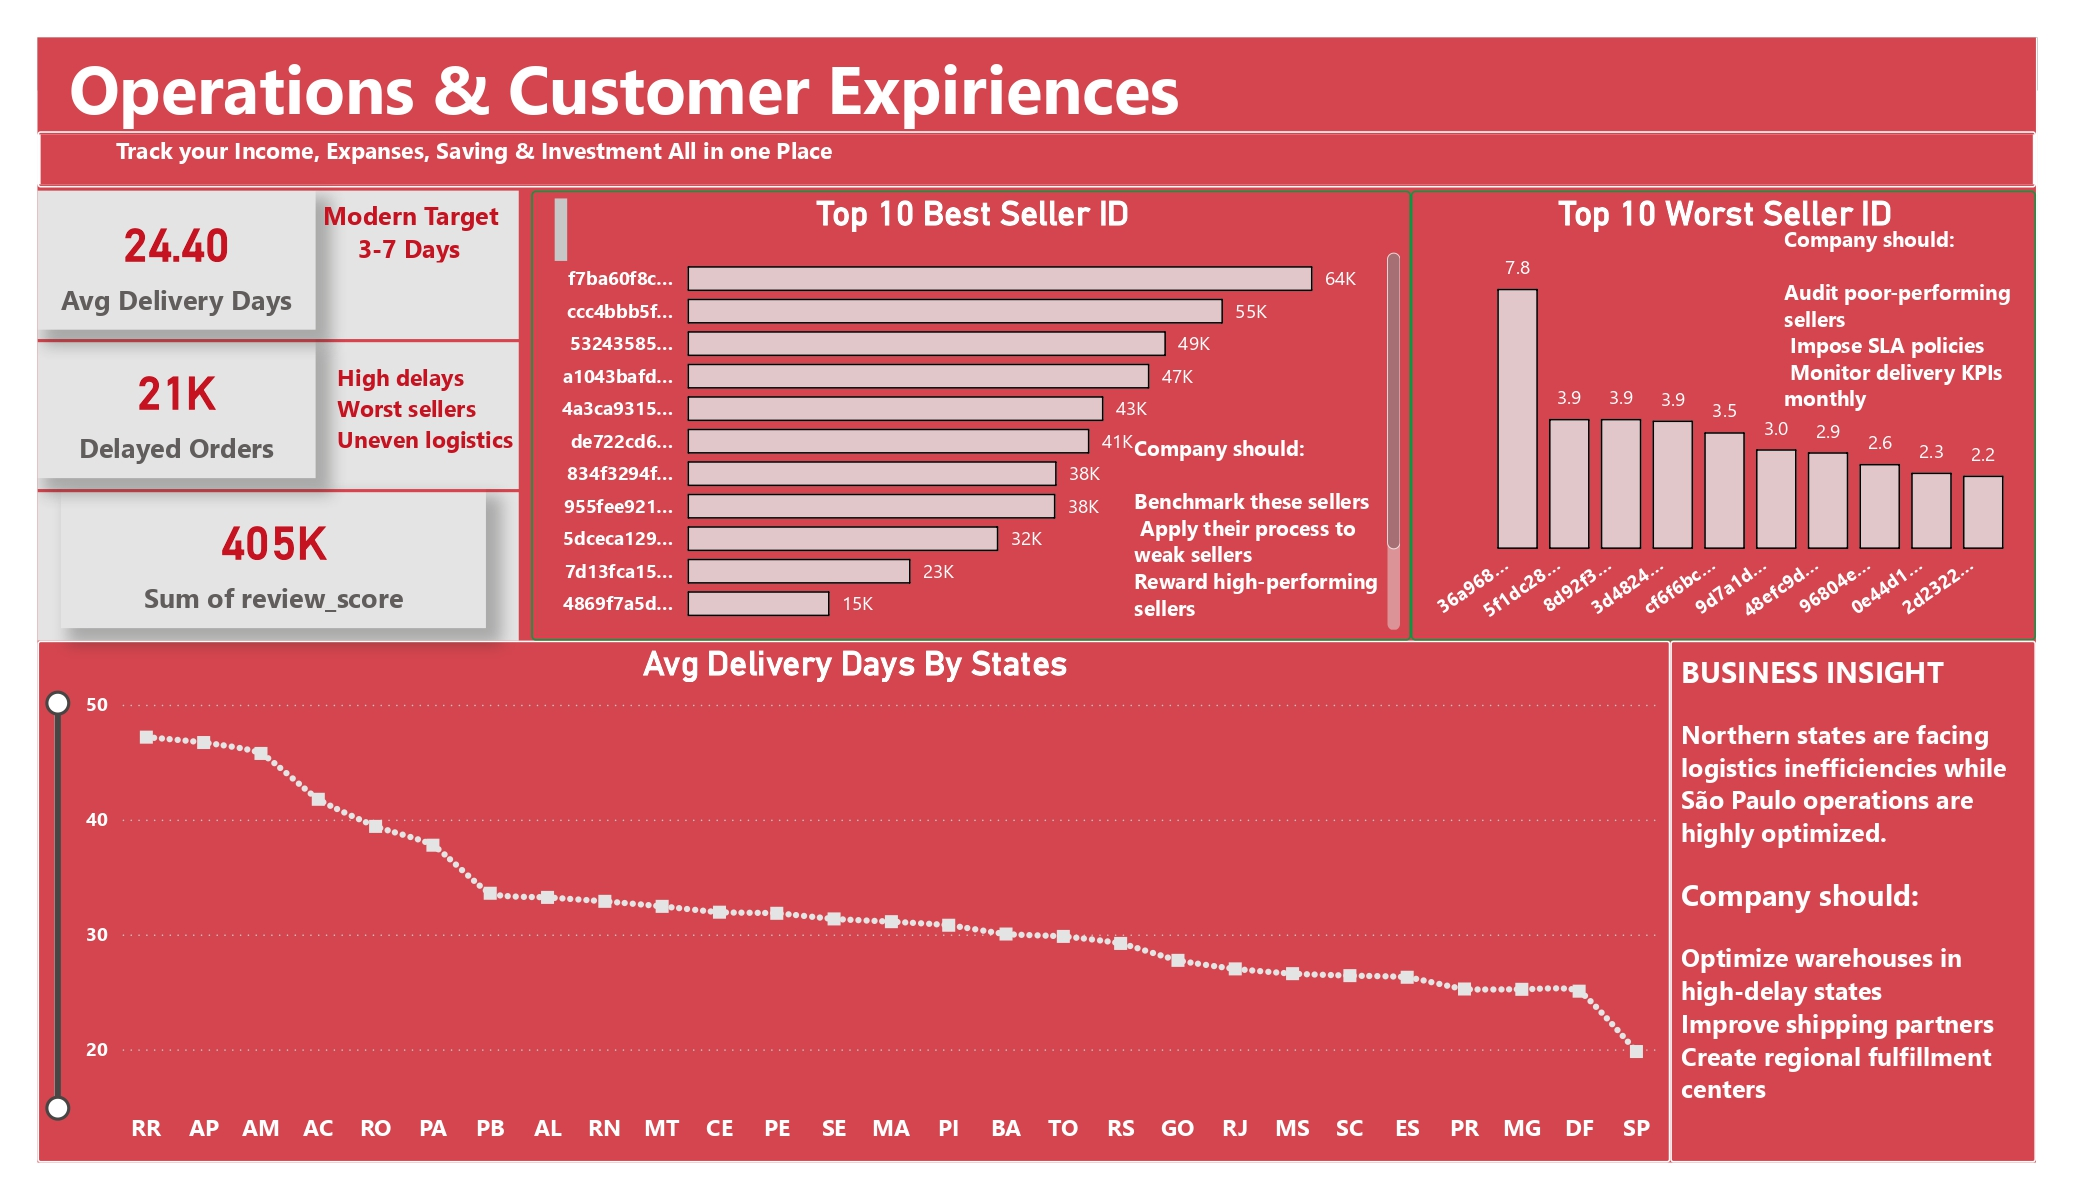

This screenshot's page, from the dashboard's own definition file:
{"tool":"powerbi","page":{"name":"Operation & Customer Satisfaction","canvas":[1280,720],"ordinal":2},"visuals":[{"type":"shape","box":[0,94.5,1279.4,625.5],"z":0},{"type":"shape","box":[0,0,1279.4,62.4],"z":1000},{"type":"shape","box":[0,60.5,1279.4,35.9],"z":2000},{"type":"shape","box":[0,98.3,308,94.5],"z":3000},{"type":"shape","box":[0,194.6,308,94.5],"z":4000},{"type":"shape","box":[0,291,308,94.5],"z":5000},{"type":"card","fields":{"Values":["DateTable.Avg Delivery Days"]},"box":[0,98.3,177.6,88.8],"z":6000},{"type":"card","fields":{"Values":["DateTable.Delayed Orders"]},"box":[0,192.8,177.6,88.8],"z":7000},{"type":"card","fields":{"Values":["Sum(olist_order_reviews_dataset.review_score)"]},"box":[15.1,289.1,272.1,88.8],"z":8000},{"type":"textbox","box":[281.6,113.4,71.8,83.2],"z":9000},{"type":"textbox","box":[272.1,209.8,71.8,83.2],"z":10000},{"type":"textbox","box":[281.6,311.8,71.8,83.2],"z":11000},{"type":"textbox","box":[272.1,402.5,71.8,83.2],"z":12000},{"type":"textbox","box":[272.1,606.6,71.8,83.2],"z":13000},{"type":"textbox","box":[272.1,495.1,81.3,83.2],"z":14000},{"type":"lineChart","title":"Avg Delivery Days By States","fields":{"Category":["customer_details.customer_state"],"Y":["DateTable.Avg Delivery Days"]},"box":[0,385.5,1045,334.5],"z":15000},{"type":"clusteredBarChart","title":"Top 10 Best Seller ID","fields":{"Category":["olist_order_items_dataset.seller_id"],"Y":["Measure Table.Total Revenue"]},"box":[315.6,98.3,563.2,287.2],"z":16000},{"type":"textbox","box":[1217,94.5,62.4,60.5],"z":17000},{"type":"textbox","box":[878.7,512.1,62.4,60.5],"z":18000},{"type":"textbox","box":[867.4,298.6,88.8,60.5],"z":19000},{"type":"textbox","box":[1217,292.9,62.4,60.5],"z":20000},{"type":"textbox","box":[1262.4,302.4,17,60.5],"z":21000},{"type":"textbox","box":[1217,506.5,62.4,60.5],"z":22000},{"type":"textbox","box":[540.5,546.1,223,102],"z":23000},{"type":"columnChart","title":"Top 10 Worst Seller ID","fields":{"Category":["olist_order_items_dataset.seller_id"],"Y":["Measure Table.Total Revenue"]},"box":[878.7,98.3,400.6,287.2],"z":24000},{"type":"textbox","box":[1045,385.5,234.3,334.5],"z":25000},{"type":"textbox","box":[697.3,249.5,181.4,147.4],"z":26000},{"type":"textbox","box":[1113.1,115.3,166.3,158.7],"z":27000},{"type":"textbox","box":[177.6,98.3,166.3,51],"z":28000},{"type":"textbox","box":[187.1,202.2,166.3,86.9],"z":29000}]}

Visuals, with their boxes on the page's 1280x720 design canvas (x1, y1, x2, y2). These are canvas units, not pixel positions in the 2075x1200 screenshot, which may show the page scaled, cropped or inside an application window:
shape: l=0, t=94, r=1279, b=720
shape: l=0, t=0, r=1279, b=62
shape: l=0, t=60, r=1279, b=96
shape: l=0, t=98, r=308, b=193
shape: l=0, t=195, r=308, b=289
shape: l=0, t=291, r=308, b=386
card - DateTable.Avg Delivery Days: l=0, t=98, r=178, b=187
card - DateTable.Delayed Orders: l=0, t=193, r=178, b=282
card - Sum(olist_order_reviews_dataset.review_score): l=15, t=289, r=287, b=378
textbox: l=282, t=113, r=353, b=197
textbox: l=272, t=210, r=344, b=293
textbox: l=282, t=312, r=353, b=395
textbox: l=272, t=402, r=344, b=486
textbox: l=272, t=607, r=344, b=690
textbox: l=272, t=495, r=353, b=578
"Avg Delivery Days By States" lineChart: l=0, t=386, r=1045, b=720
"Top 10 Best Seller ID" clusteredBarChart: l=316, t=98, r=879, b=386
textbox: l=1217, t=94, r=1279, b=155
textbox: l=879, t=512, r=941, b=573
textbox: l=867, t=299, r=956, b=359
textbox: l=1217, t=293, r=1279, b=353
textbox: l=1262, t=302, r=1279, b=363
textbox: l=1217, t=506, r=1279, b=567
textbox: l=540, t=546, r=764, b=648
"Top 10 Worst Seller ID" columnChart: l=879, t=98, r=1279, b=386
textbox: l=1045, t=386, r=1279, b=720
textbox: l=697, t=250, r=879, b=397
textbox: l=1113, t=115, r=1279, b=274
textbox: l=178, t=98, r=344, b=149
textbox: l=187, t=202, r=353, b=289
